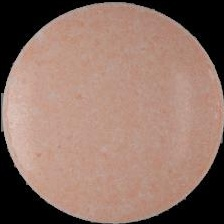0056-0172: (0, 0, 224, 224)
